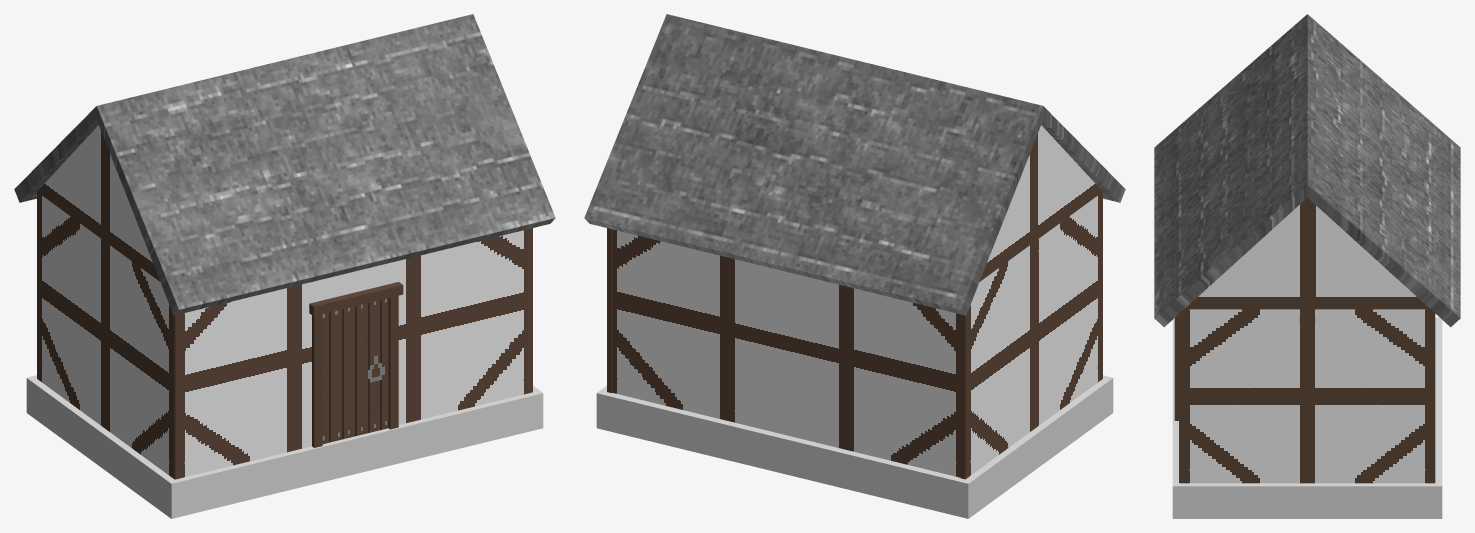
File: House1.fbx
3 views of the same model, side by side, from view 1: azimuth 30°, elevation 25°; view 2: azimuth 150°, elevation 25°; view 3: azimuth 270°, elevation 25° (orthographic). The views are drawn at different scales.
Parts seen in each view (by area): view 1: Roof, Plane.004, Floor, Plane, RoofWalls, Cube; view 2: Roof, Plane.004, Floor, RoofWalls; view 3: Roof, Plane.004, RoofWalls, Floor, Cube.
Part boxes in pixels (bbox=[...]): Roof: bbox=[14, 14, 555, 315]; Plane.004: bbox=[37, 192, 532, 479]; Floor: bbox=[26, 375, 543, 518]; Plane: bbox=[322, 298, 388, 443]; RoofWalls: bbox=[37, 125, 160, 281]; Cube: bbox=[309, 282, 403, 447]; Roof: bbox=[584, 14, 1125, 315]; Plane.004: bbox=[607, 192, 1102, 479]; Floor: bbox=[596, 375, 1113, 518]; RoofWalls: bbox=[979, 125, 1102, 281]; Roof: bbox=[1154, 14, 1460, 327]; Plane.004: bbox=[1179, 309, 1435, 483]; RoofWalls: bbox=[1184, 198, 1430, 309]; Floor: bbox=[1172, 317, 1442, 518]; Cube: bbox=[1174, 314, 1178, 420].
Bounding box in the file's own units: 632 × 578 × 479.
